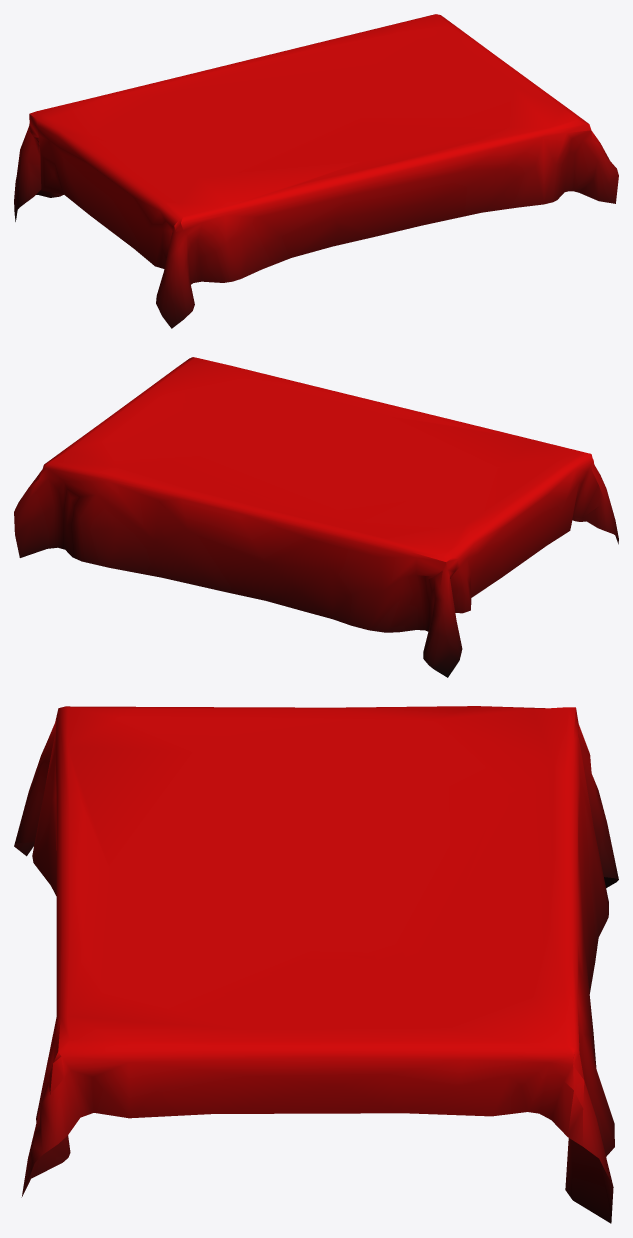
Rendered from SM_DinerTable_Tablecloth.fbx.
3 views of the same model, one above another, from view 1: azimuth 30°, elevation 25°; view 2: azimuth 150°, elevation 25°; view 3: azimuth 270°, elevation 25° (orthographic). The views are drawn at different scales.
Visible parts, largest first — view 1: normal1; view 2: normal1; view 3: normal1.
Boxes of the visible parts, box(x1,y1,x2,y2) form: normal1: box(14, 14, 618, 328); normal1: box(14, 357, 618, 677); normal1: box(14, 706, 618, 1223).
Bounding box in the file's own units: 82.09 × 19.84 × 54.6.
